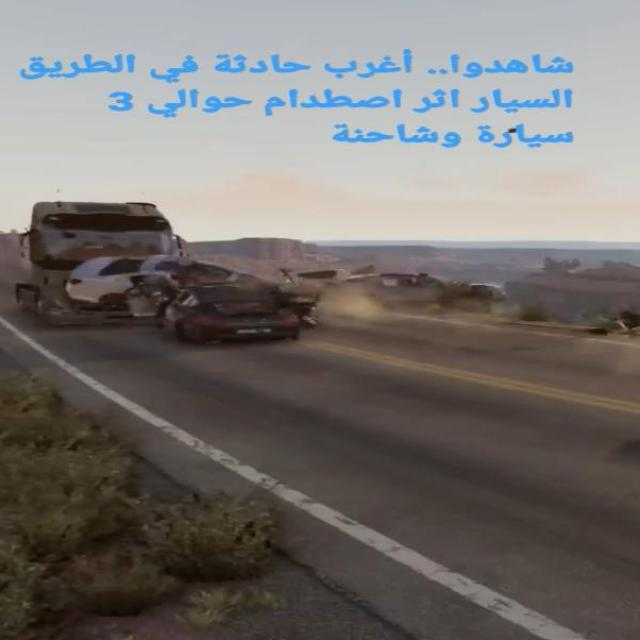accident: (29, 244, 339, 352)
